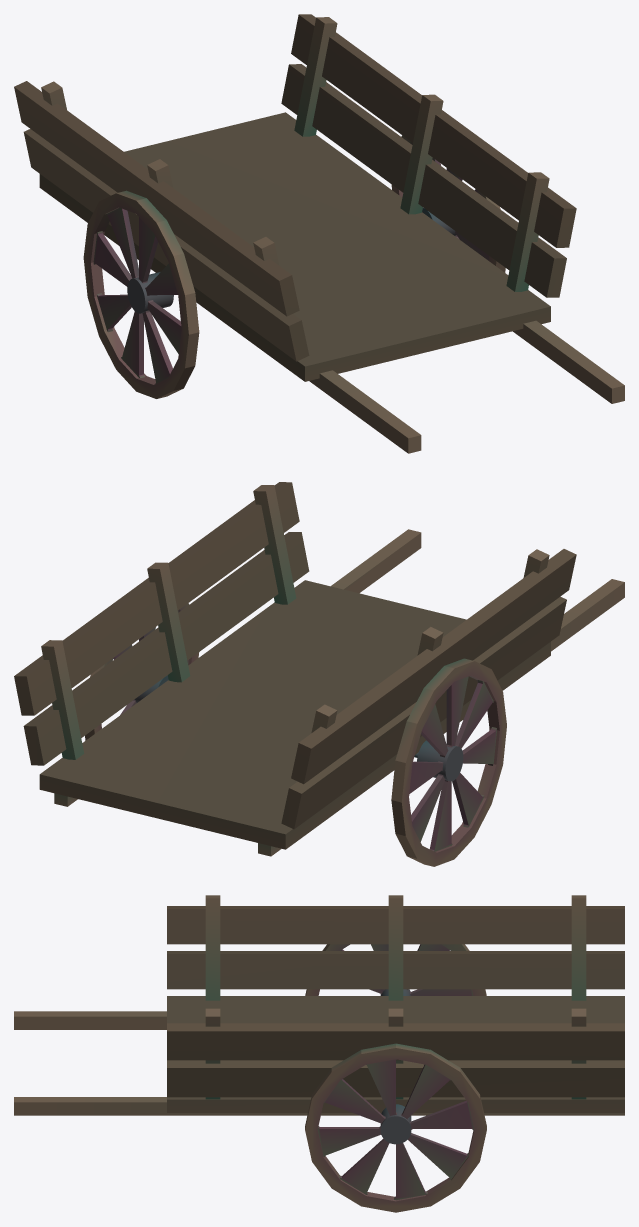
The picture shows the model from 3 angles, top to bottom: view 1: azimuth 30°, elevation 25°; view 2: azimuth 150°, elevation 25°; view 3: azimuth 270°, elevation 25°; orthographic projection. The views are drawn at different scales.
Visible parts, largest first — view 1: floor, lower_board, lower_board.001, lower_board.003, lower_board.002, rim.001, spokes.001, shaft.003, shaft, post.002, post.001, post.003 (+1 smaller); view 2: floor, lower_board.001, lower_board, lower_board.003, lower_board.002, rim.001, spokes.001, shaft, post.002, post.001, post.003, shaft.003 (+1 smaller); view 3: floor, lower_board.002, lower_board.003, lower_board.001, lower_board, spokes, rim, shaft, shaft.003, post.004, post.005, post.006 (+3 smaller).
Boxes of the visible parts, x1,y1,x2,y2 form: floor: [39, 112, 550, 381]; lower_board: [281, 64, 566, 297]; lower_board.001: [291, 14, 576, 247]; lower_board.003: [14, 81, 299, 316]; lower_board.002: [23, 129, 309, 361]; rim.001: [83, 190, 199, 398]; spokes.001: [93, 207, 181, 383]; shaft.003: [309, 370, 421, 453]; shaft: [513, 320, 624, 403]; post.002: [400, 94, 443, 214]; post.001: [506, 172, 549, 291]; post.003: [294, 17, 337, 136]; floor: [39, 580, 550, 849]; lower_board.001: [14, 482, 299, 715]; lower_board: [23, 532, 309, 765]; lower_board.003: [291, 549, 576, 784]; lower_board.002: [281, 596, 566, 829]; rim.001: [391, 658, 506, 866]; spokes.001: [409, 676, 496, 851]; shaft: [54, 529, 421, 806]; post.002: [147, 562, 190, 682]; post.001: [253, 485, 296, 604]; post.003: [41, 640, 84, 759]; shaft.003: [258, 579, 624, 856]; floor: [167, 996, 624, 1112]; lower_board.002: [167, 951, 624, 989]; lower_board.003: [167, 906, 624, 944]; lower_board.001: [167, 1023, 624, 1060]; lower_board: [167, 1060, 624, 1097]; spokes: [317, 1059, 474, 1199]; rim: [305, 1043, 486, 1212]; shaft: [14, 1097, 624, 1115]; shaft.003: [14, 1011, 166, 1029]; post.004: [205, 895, 220, 1000]; post.005: [388, 895, 403, 1000]; post.006: [571, 895, 586, 1000].
Bounding box in the file's own units: 1.56 × 1.04 × 3.
